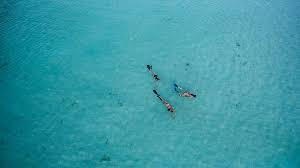Person: (151, 88, 177, 114), (172, 84, 198, 102), (145, 63, 161, 83)
